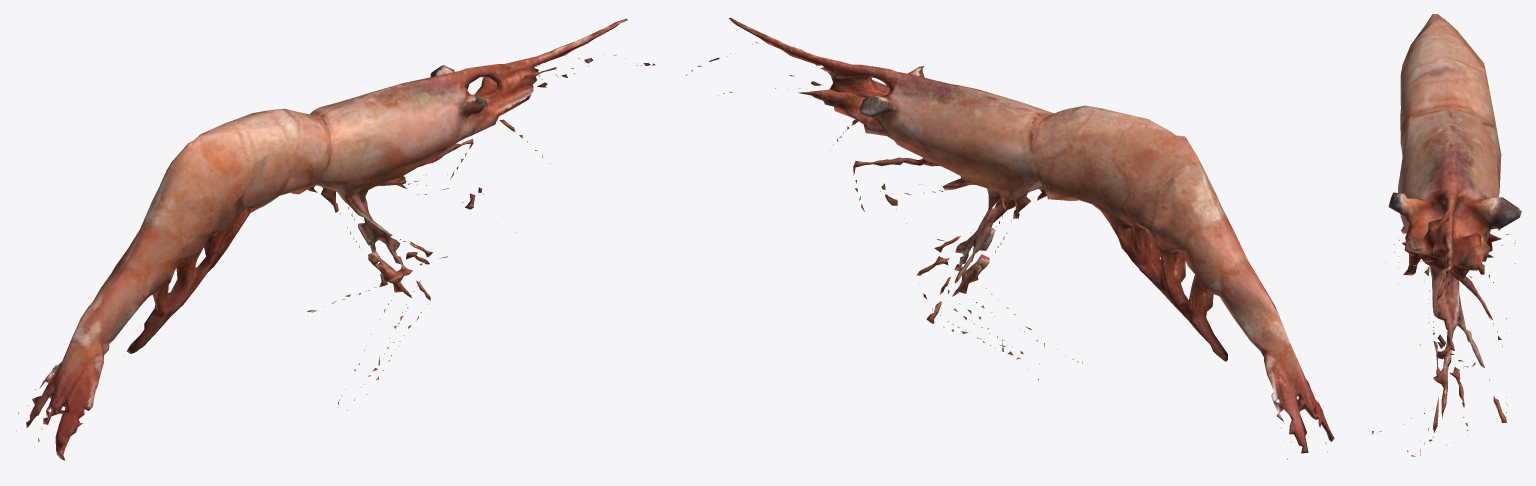
The model's file is scan_prawn.glb.
3 views of the same model, side by side, from view 1: azimuth 30°, elevation 25°; view 2: azimuth 150°, elevation 25°; view 3: azimuth 270°, elevation 25° (orthographic). The views are drawn at different scales.
Visible parts, largest first — view 1: scan_prawn; view 2: scan_prawn; view 3: scan_prawn.
Part boxes in pixels (x1,y1,x2,y2): scan_prawn: (18, 18, 655, 460); scan_prawn: (685, 17, 1334, 459); scan_prawn: (1372, 14, 1521, 456).
Bounding box in the file's own units: 0.1915 × 0.0899 × 0.0322.
Materials: 1 (1 with a texture image).
